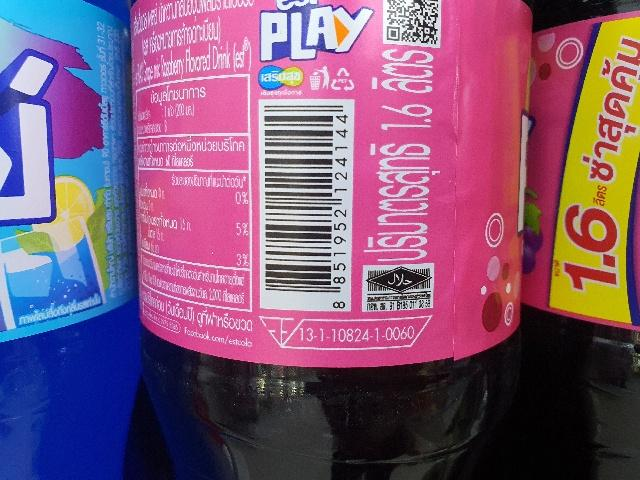Barcode: (259, 98, 353, 310)
